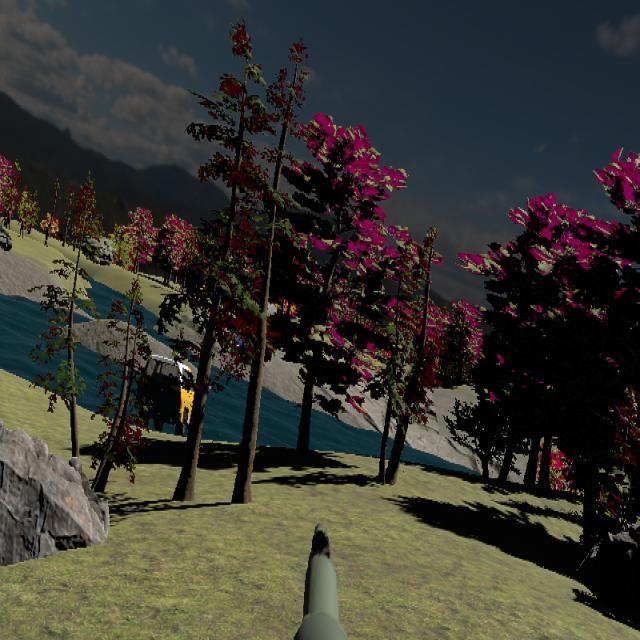Tank: (0, 214, 13, 252)
car: (134, 354, 209, 435)
